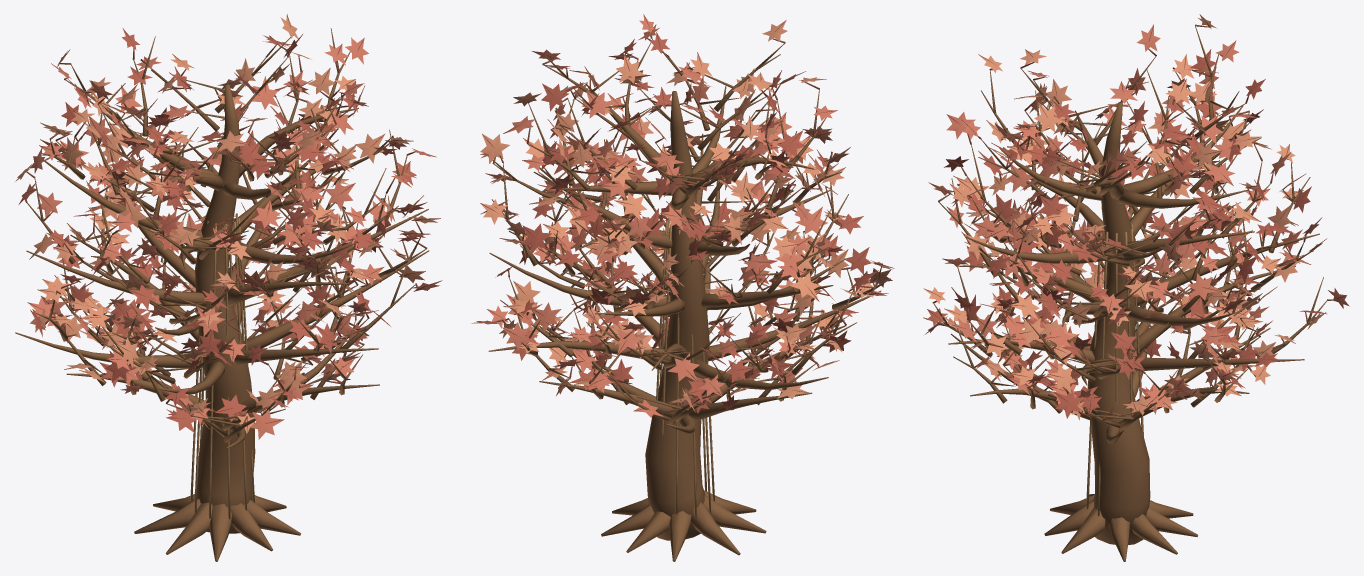
The model's file is maple.glb.
The picture shows the model from 3 angles, left to right: view 1: azimuth 30°, elevation 25°; view 2: azimuth 150°, elevation 25°; view 3: azimuth 270°, elevation 25°; orthographic projection. The views are drawn at different scales.
Visible parts, largest first — view 1: Maple trunk and branches, Maple leaves 3, Maple leaves 2, Maple leaves 1, Maple veins, Maple raised bark; view 2: Maple trunk and branches, Maple leaves 3, Maple leaves 2, Maple leaves 1, Maple veins, Maple raised bark; view 3: Maple trunk and branches, Maple leaves 3, Maple leaves 1, Maple leaves 2, Maple veins, Maple raised bark.
Boxes of the visible parts, box(x1,y1,x2,y2) form: Maple trunk and branches: box(15, 28, 429, 561); Maple leaves 3: box(15, 15, 438, 433); Maple leaves 2: box(18, 37, 441, 439); Maple leaves 1: box(30, 29, 426, 432); Maple veins: box(20, 14, 441, 434); Maple raised bark: box(190, 213, 254, 519); Maple trunk and branches: box(488, 38, 890, 561); Maple leaves 3: box(480, 20, 892, 412); Maple leaves 2: box(481, 15, 886, 417); Maple leaves 1: box(475, 32, 877, 413); Maple veins: box(472, 14, 894, 411); Maple raised bark: box(656, 218, 714, 518); Maple trunk and branches: box(923, 25, 1327, 561); Maple leaves 3: box(924, 15, 1323, 420); Maple leaves 1: box(926, 49, 1326, 418); Maple leaves 2: box(925, 25, 1349, 423); Maple veins: box(923, 14, 1346, 418); Maple raised bark: box(1086, 224, 1143, 518).
Size of the model in its own units: 1.94 by 2.27 by 1.87.
